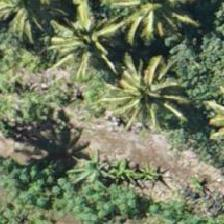coconut_tree: (101, 45, 191, 135), (38, 1, 128, 91), (0, 0, 66, 45)
